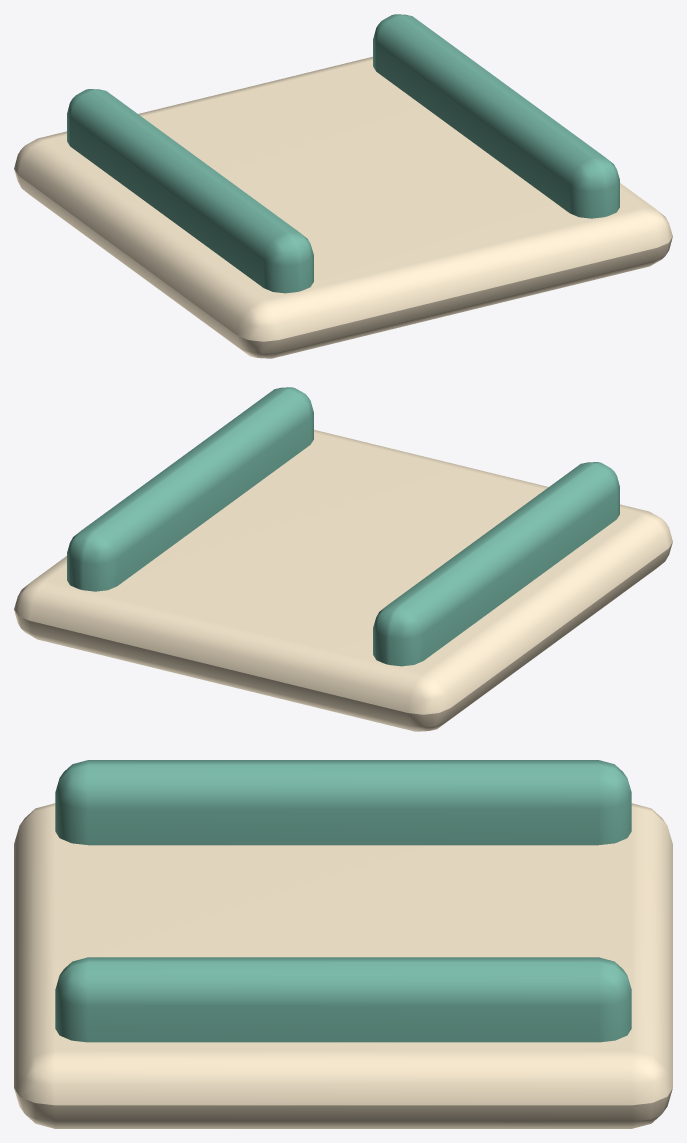
Rendered from Tool_rest.fbx.
3 views of the same model, one above another, from view 1: azimuth 30°, elevation 25°; view 2: azimuth 150°, elevation 25°; view 3: azimuth 270°, elevation 25° (orthographic). The views are drawn at different scales.
Parts seen in each view (by area): view 1: Toon_Tool_rest Tool tray.001, Toon_Tool_rest Tray side.003, Toon_Tool_rest Tray side.002; view 2: Toon_Tool_rest Tool tray.001, Toon_Tool_rest Tray side.003, Toon_Tool_rest Tray side.002; view 3: Toon_Tool_rest Tool tray.001, Toon_Tool_rest Tray side.003, Toon_Tool_rest Tray side.002.
Part boxes in pixels (left/top/right/bottom): Toon_Tool_rest Tool tray.001: left=14, top=56, right=672, bottom=358; Toon_Tool_rest Tray side.003: left=373, top=14, right=619, bottom=218; Toon_Tool_rest Tray side.002: left=67, top=89, right=313, bottom=293; Toon_Tool_rest Tool tray.001: left=14, top=429, right=672, bottom=731; Toon_Tool_rest Tray side.003: left=67, top=387, right=313, bottom=591; Toon_Tool_rest Tray side.002: left=373, top=462, right=619, bottom=666; Toon_Tool_rest Tool tray.001: left=14, top=803, right=672, bottom=1128; Toon_Tool_rest Tray side.003: left=55, top=957, right=631, bottom=1042; Toon_Tool_rest Tray side.002: left=55, top=760, right=631, bottom=845.
Bounding box in the file's own units: 24 × 5.65 × 24.
